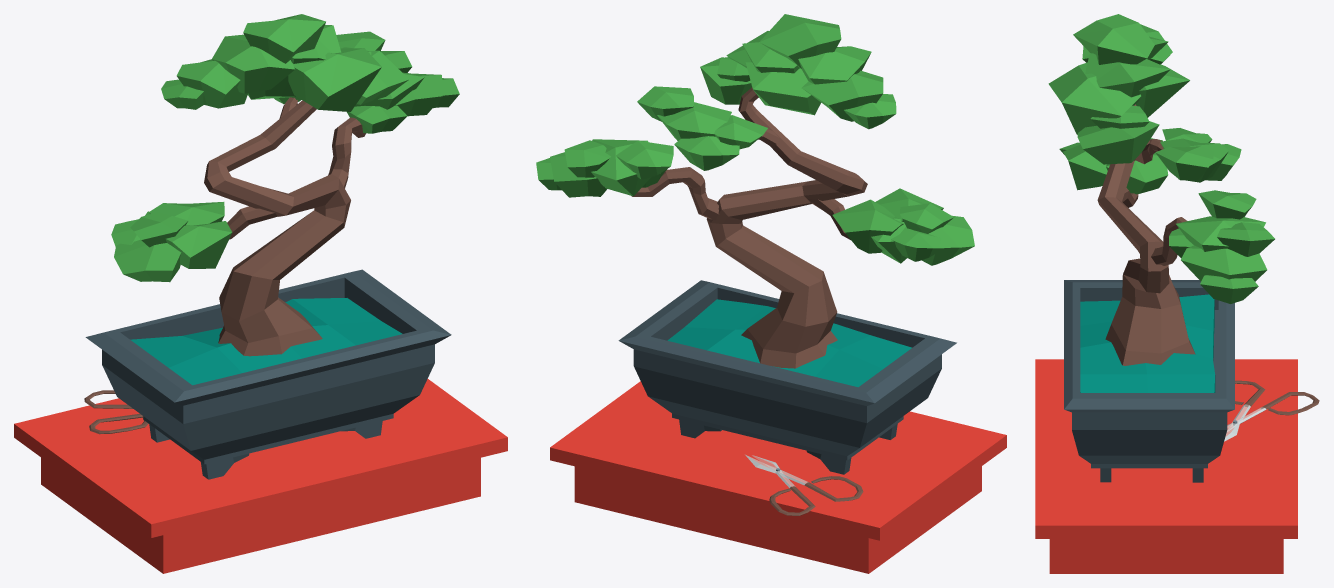
Rendered from bonsai.obj.
3 views of the same model, side by side, from view 1: azimuth 30°, elevation 25°; view 2: azimuth 150°, elevation 25°; view 3: azimuth 270°, elevation 25° (orthographic). The views are drawn at different scales.
Visible parts, largest first — view 1: group430673059; view 2: group430673059; view 3: group430673059.
Boxes of the visible parts, x1,y1,x2,y2 form: group430673059: (14, 14, 507, 573); group430673059: (536, 14, 1006, 573); group430673059: (1035, 14, 1319, 573).
Size of the model in its own units: 1.53 by 1.78 by 0.9741.
